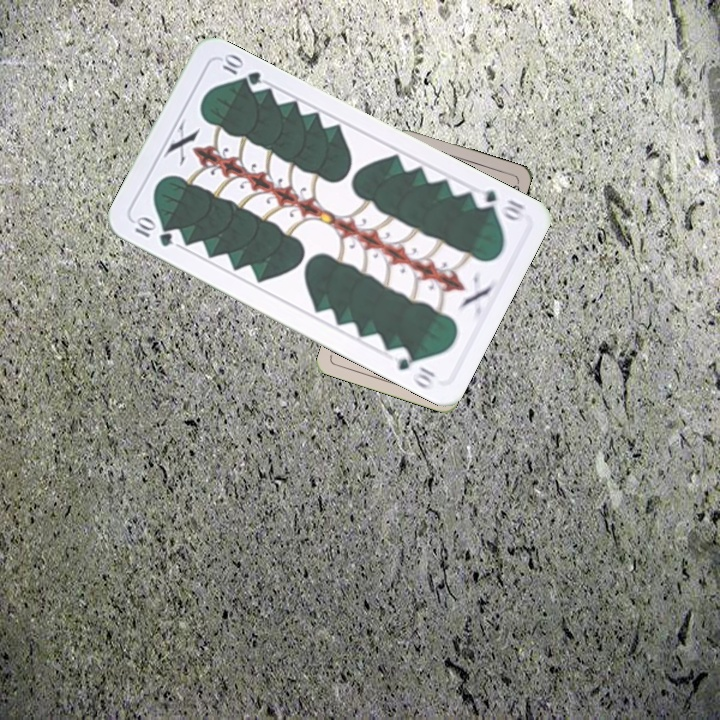G10: (468, 183, 529, 225), (130, 212, 176, 250)
